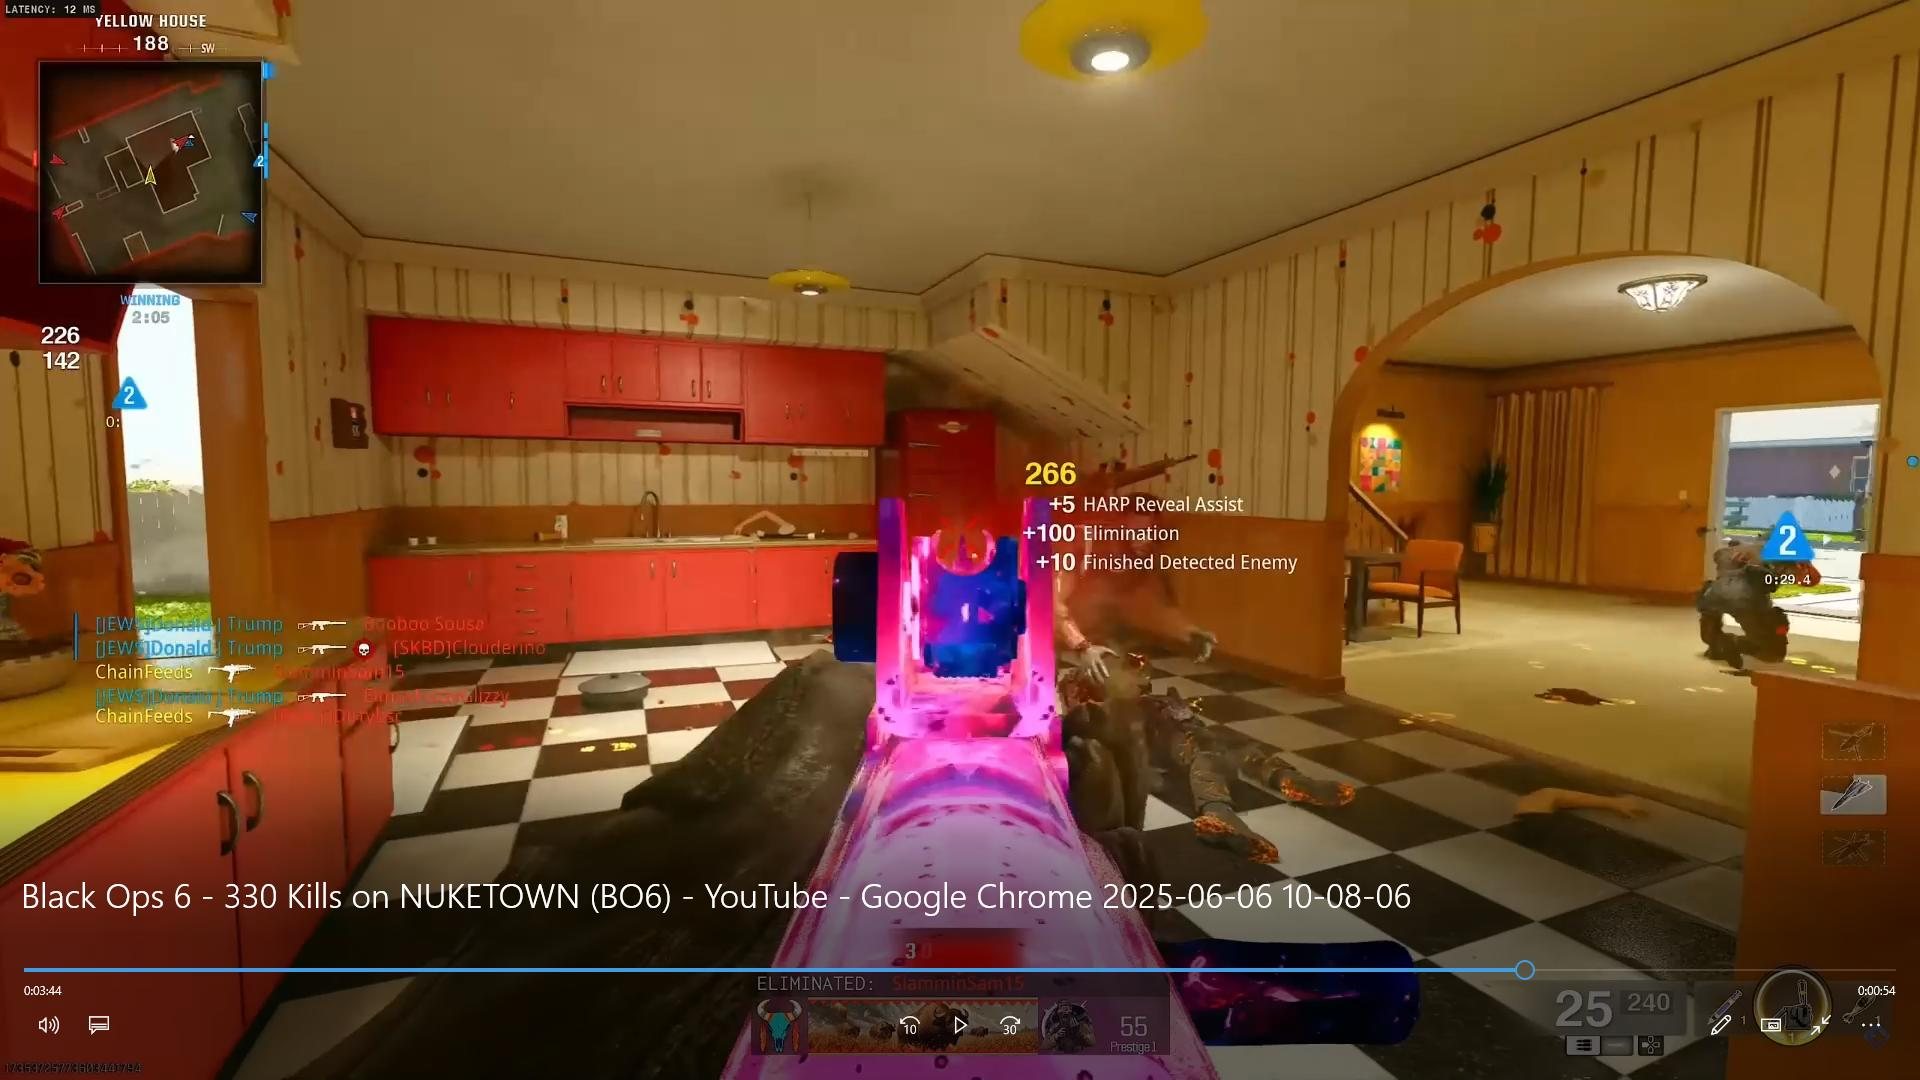Enemy: (1679, 493, 1770, 657)
